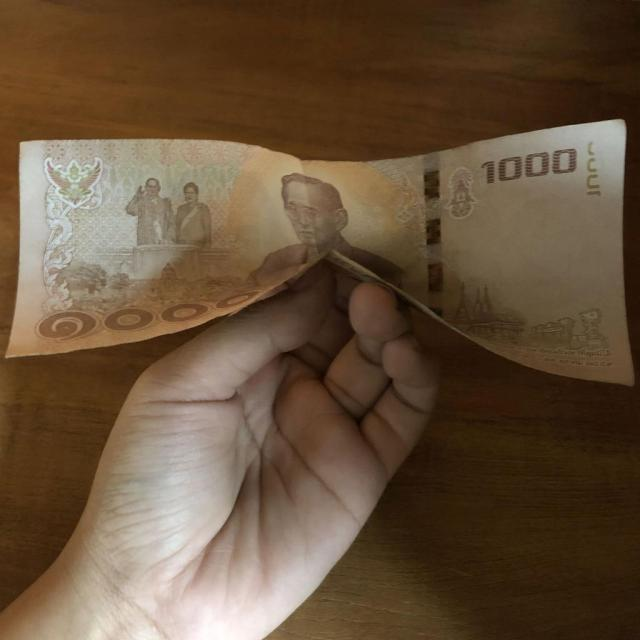THAI1000: (2, 119, 635, 387)
